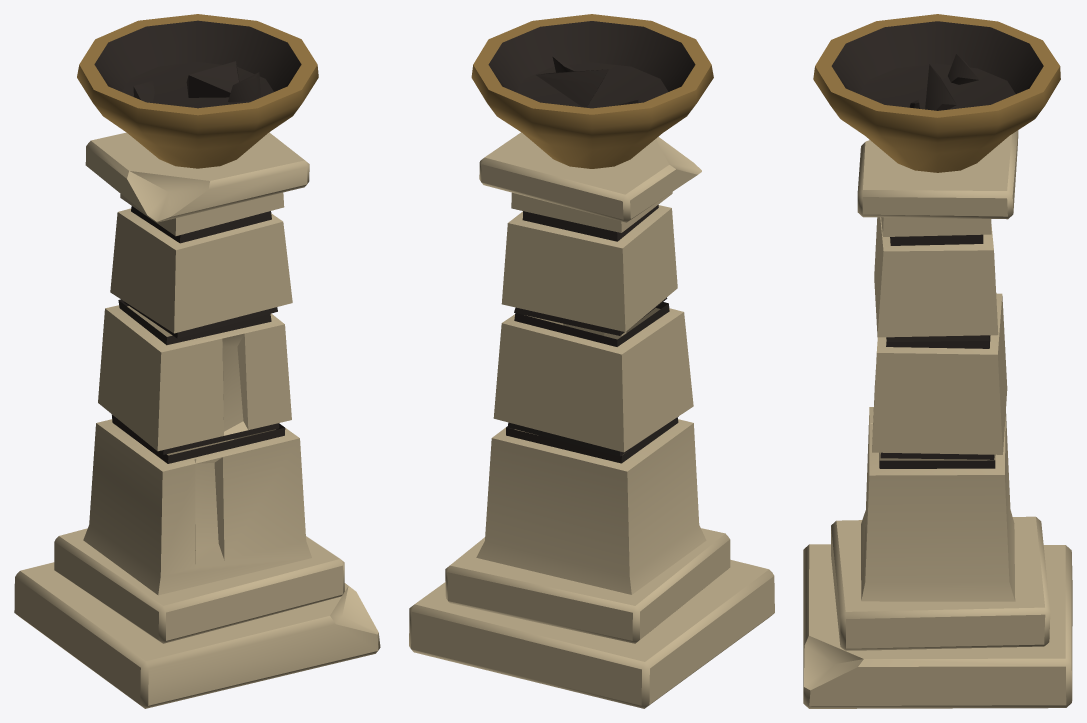
The model's file is stamp-waystone-0.glb.
3 views of the same model, side by side, from view 1: azimuth 30°, elevation 25°; view 2: azimuth 150°, elevation 25°; view 3: azimuth 270°, elevation 25° (orthographic). The views are drawn at different scales.
Parts seen in each view (by area): view 1: stamp-waystone-0; view 2: stamp-waystone-0; view 3: stamp-waystone-0.
Boxes of the visible parts, box(x1,y1,x2,y2) form: stamp-waystone-0: box(14, 14, 380, 708); stamp-waystone-0: box(409, 14, 774, 708); stamp-waystone-0: box(803, 14, 1072, 708).
Bounding box in the file's own units: 1.06 × 2.4 × 1.
